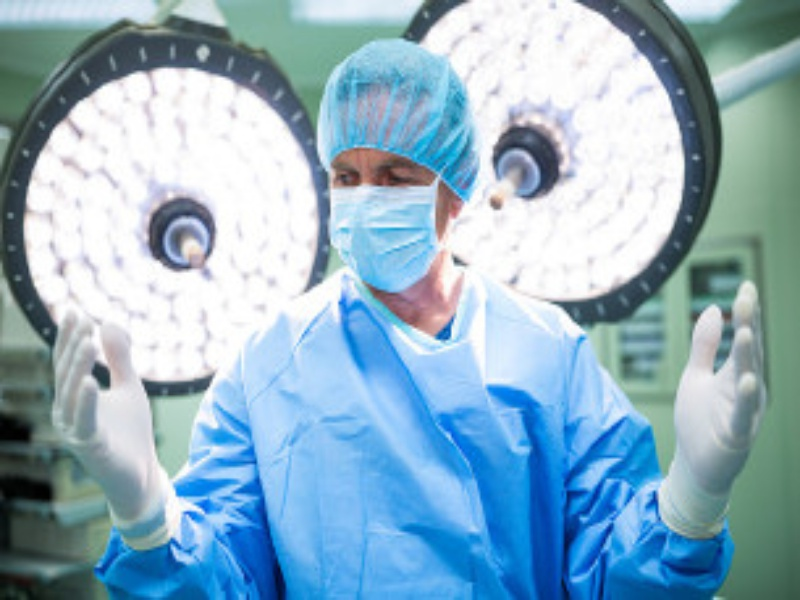mask: (306, 37, 488, 289)
